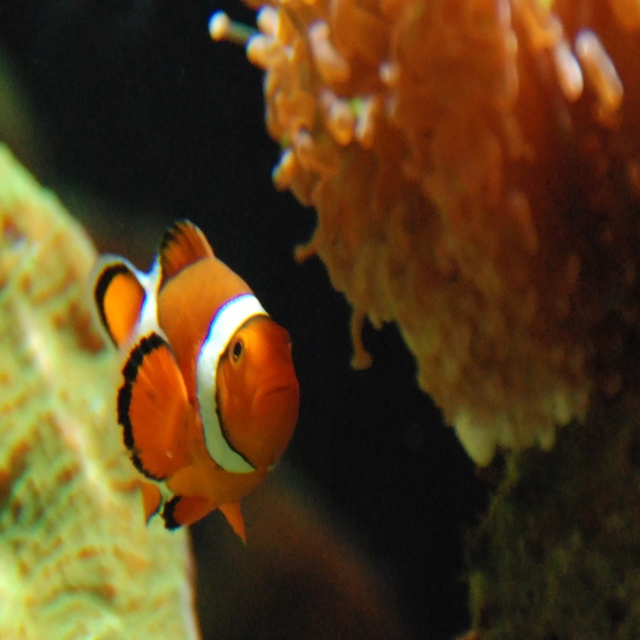Fish: (86, 219, 300, 547)
